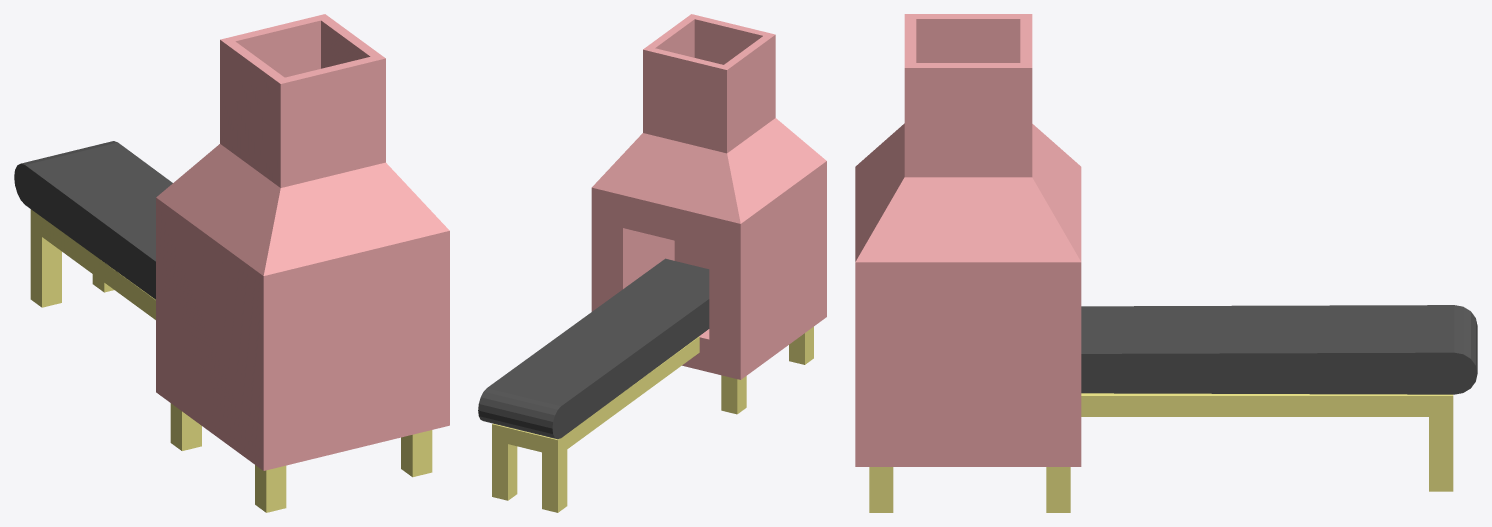
The model's file is MaskFactory.fbx.
3 views of the same model, side by side, from view 1: azimuth 30°, elevation 25°; view 2: azimuth 150°, elevation 25°; view 3: azimuth 270°, elevation 25° (orthographic). The views are drawn at different scales.
Parts seen in each view (by area): view 1: Cube; view 2: Cube; view 3: Cube.
Part boxes in pixels (<box>): Cube: <box>14,14,449,512</box>; Cube: <box>478,14,826,512</box>; Cube: <box>855,14,1477,512</box>.
Bounding box in the file's own units: 200 × 420 × 551.
